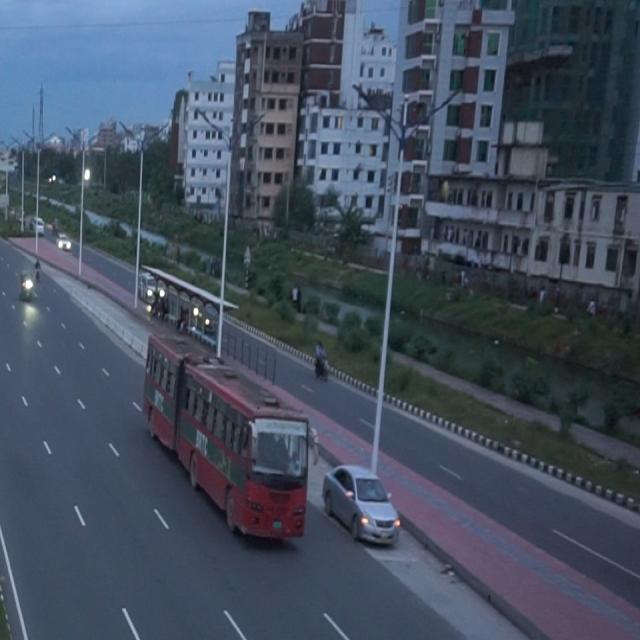bus: (131, 324, 325, 566)
